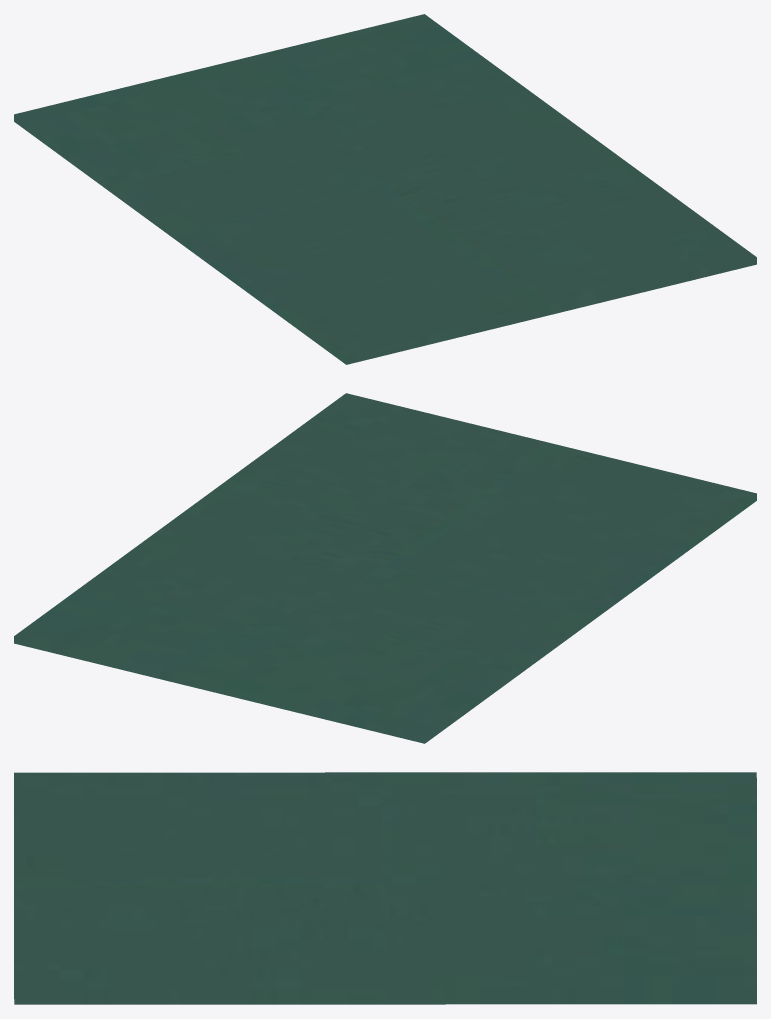
The picture shows the model from 3 angles, top to bottom: view 1: azimuth 30°, elevation 25°; view 2: azimuth 150°, elevation 25°; view 3: azimuth 270°, elevation 25°; orthographic projection. The views are drawn at different scales.
Visible parts, largest first — view 1: 30436272704370637431_0; view 2: 30436272704370637431_0; view 3: 30436272704370637431_0.
Part boxes in pixels (x1,y1,x2,y2): 30436272704370637431_0: [14, 14, 756, 364]; 30436272704370637431_0: [14, 393, 756, 743]; 30436272704370637431_0: [14, 772, 756, 1004].
Size of the model in its own units: 27.32 by 0.4807 by 38.26.
1 material, 1 textured.
